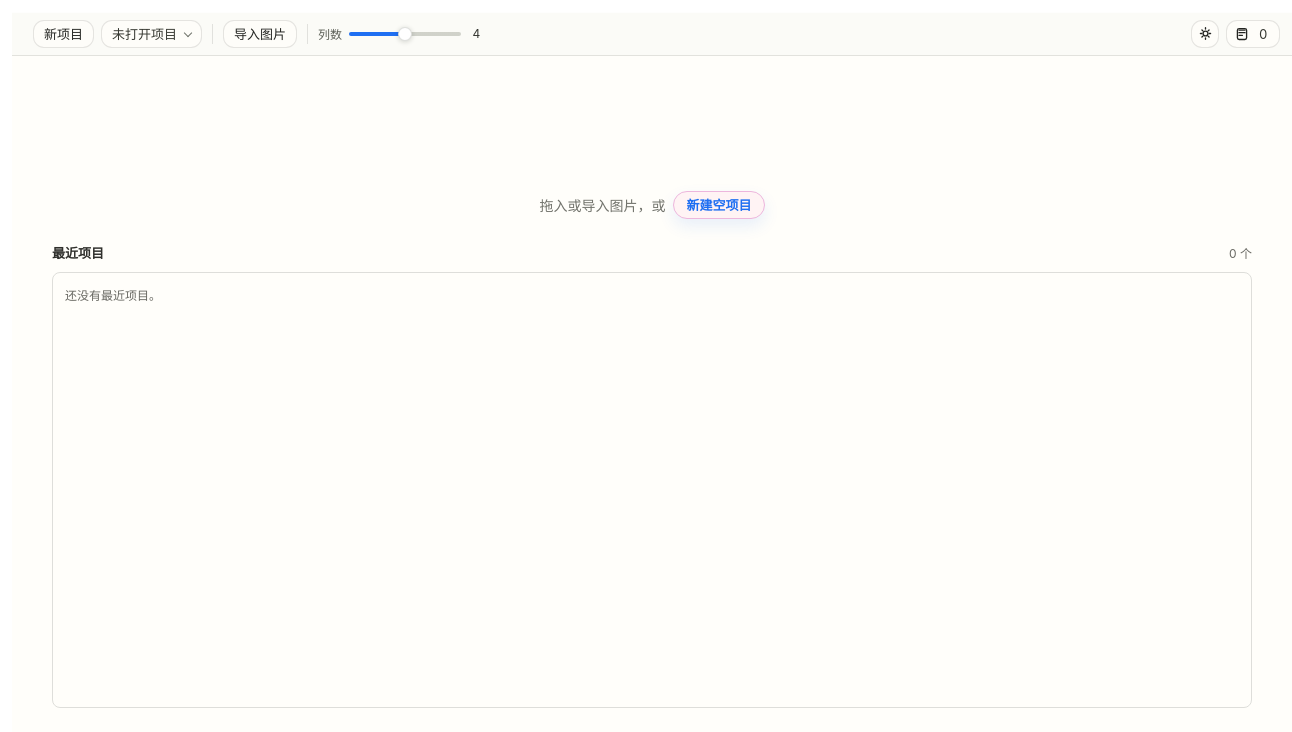
Test case: App image preview behavior › shows a clean Esse error message when Electron wraps the IPC failure
Click the button "导入图片".
click(260, 34)  # box [223,20,297,48]
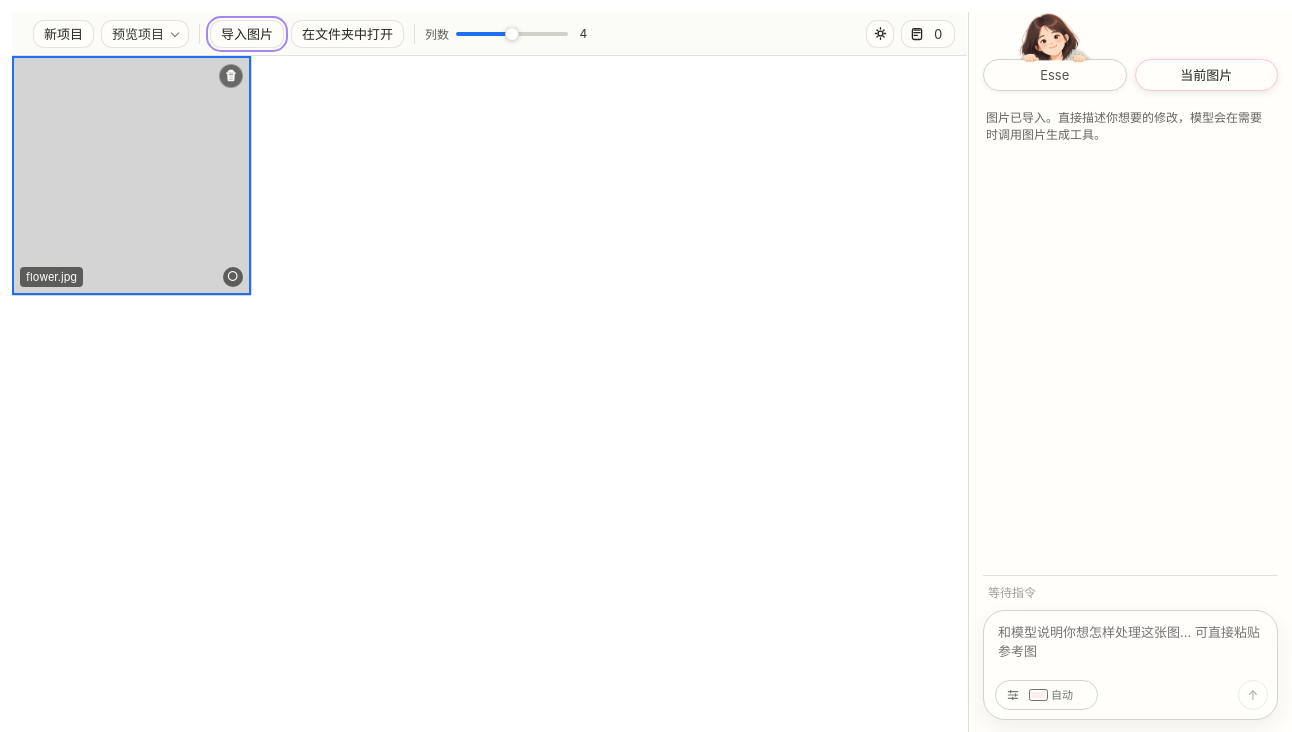
Click the tab "Esse".
click(1055, 75)  # box [983,59,1126,91]
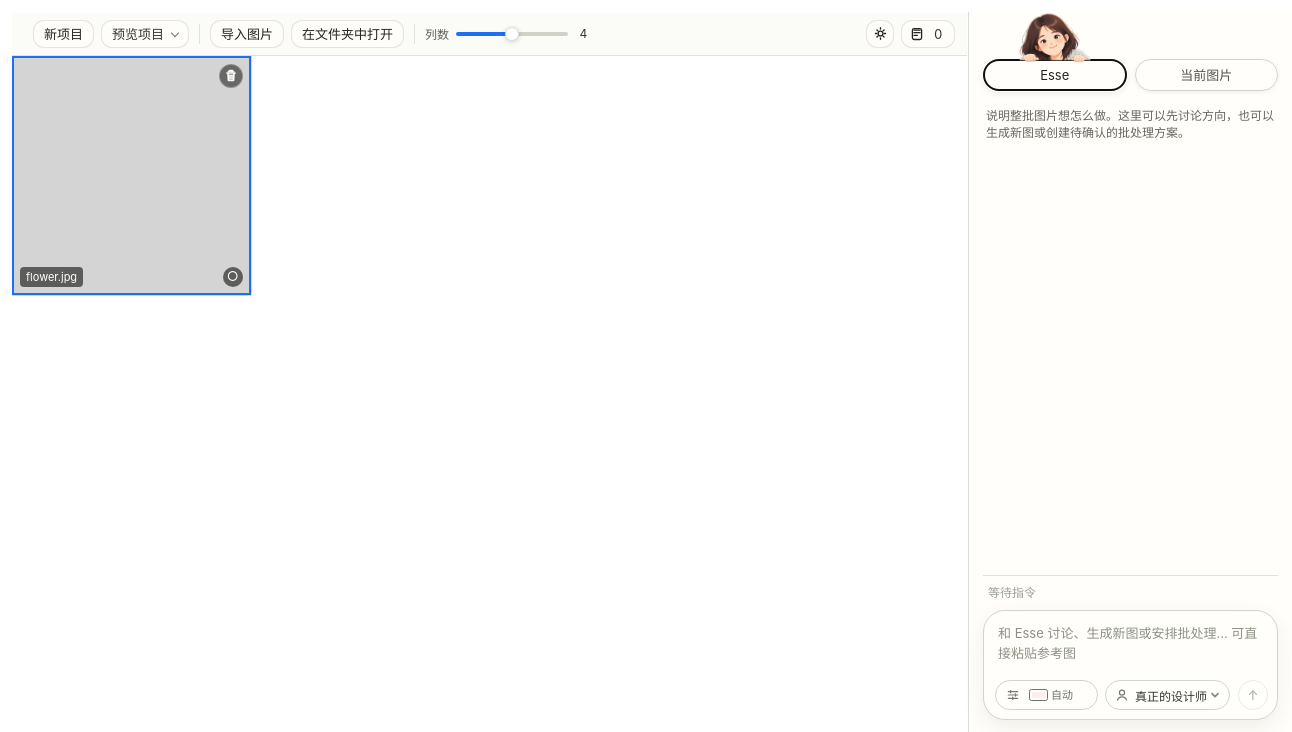
Type "你好" into the field named "Esse 输入".
click(1130, 646); type("你好")  # box [993,620,1268,672]
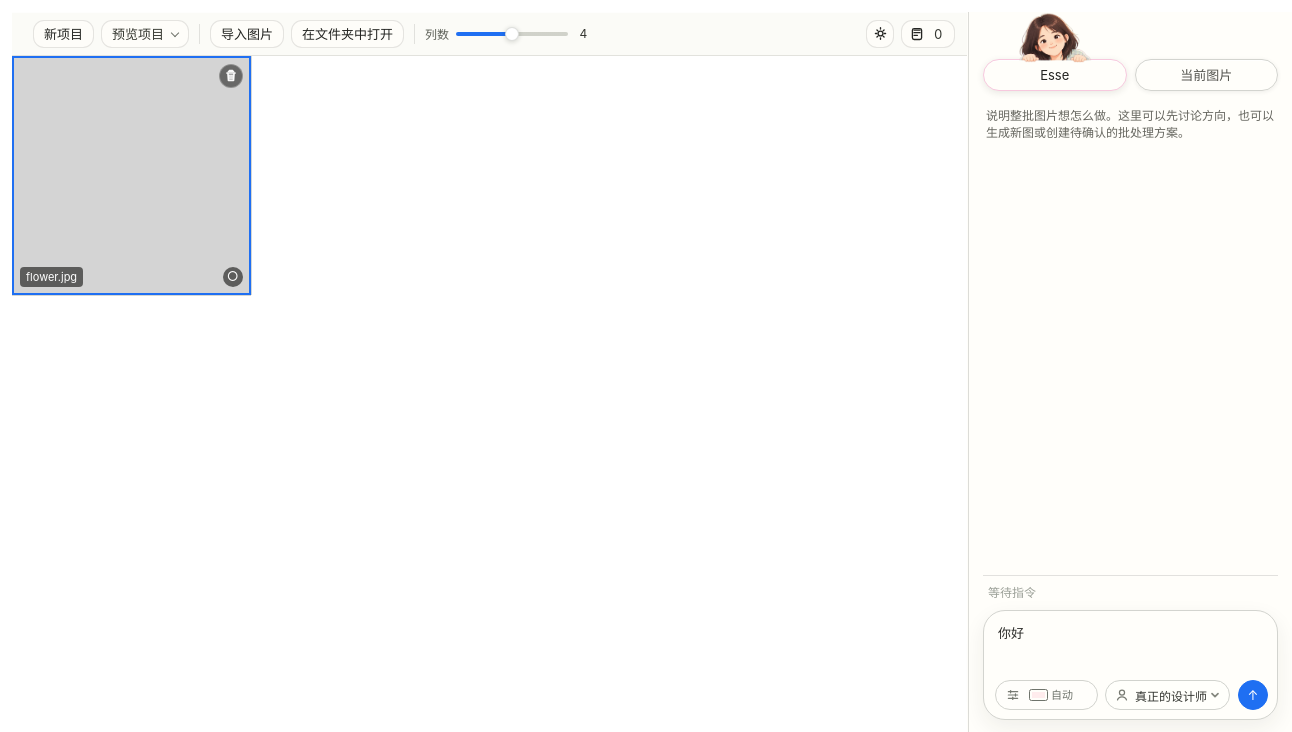
Click the button named "发送".
click(1253, 695)  # box [1238,680,1268,710]
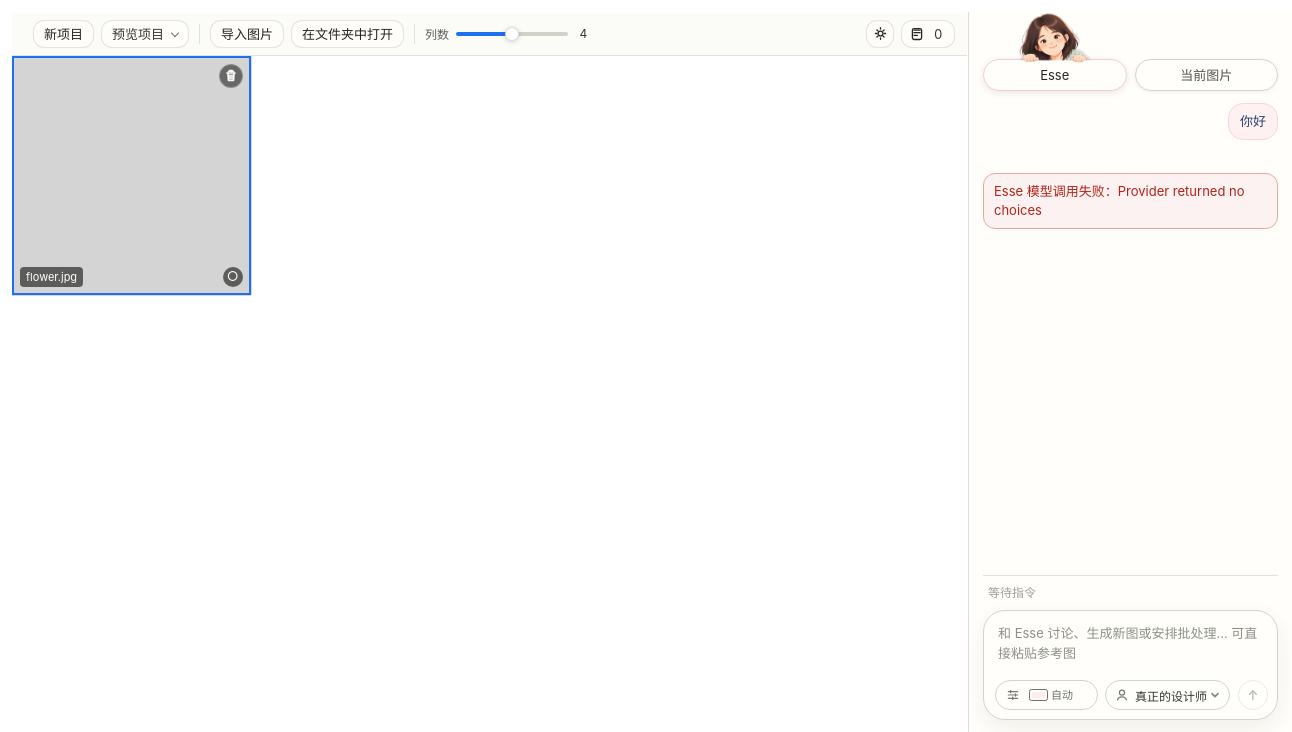
Expected: the text "Esse 模型调用失败：Provider returned no choices" is shown, [994,182,1267,220]
